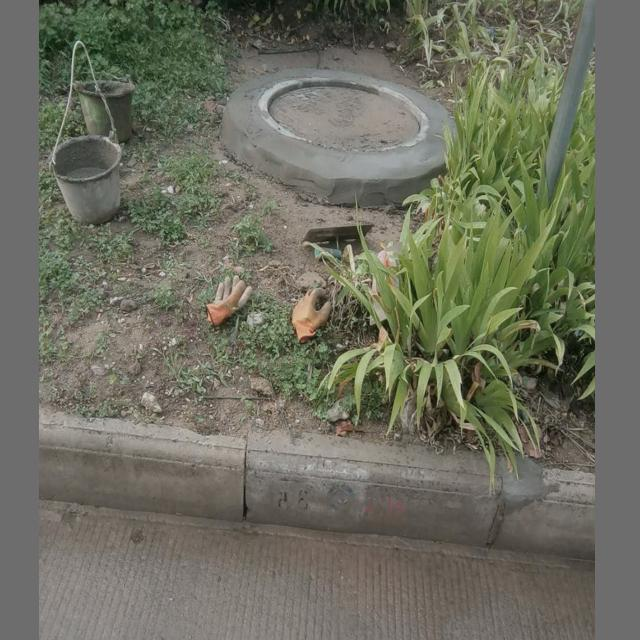good: (258, 75, 431, 148)
